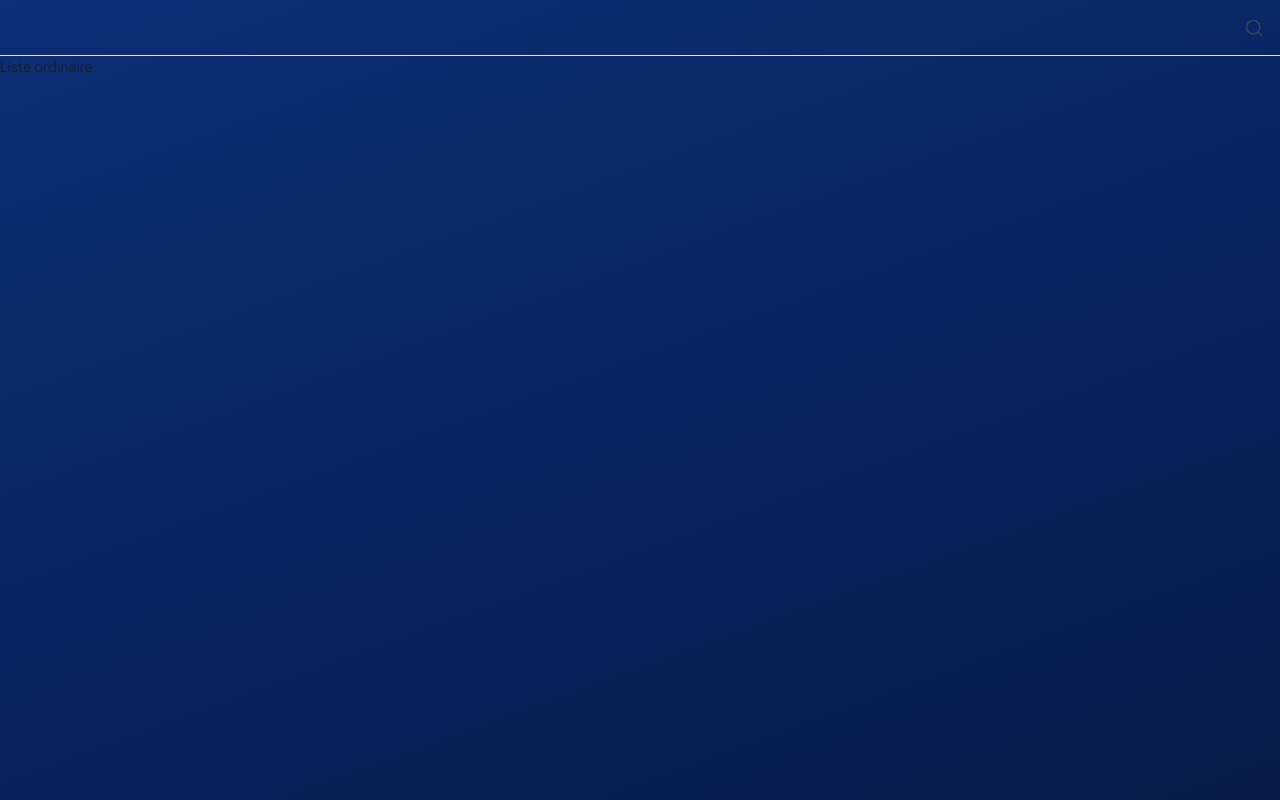
Test: recherche des salons et messages › sur téléphone, la loupe déploie le champ avec le focus, et Fermer le replie
The image size is (1280, 800).
Later steps or results of the test are not shown.
Click the button named "Rechercher": (1254, 28) [1236,10,1272,46]
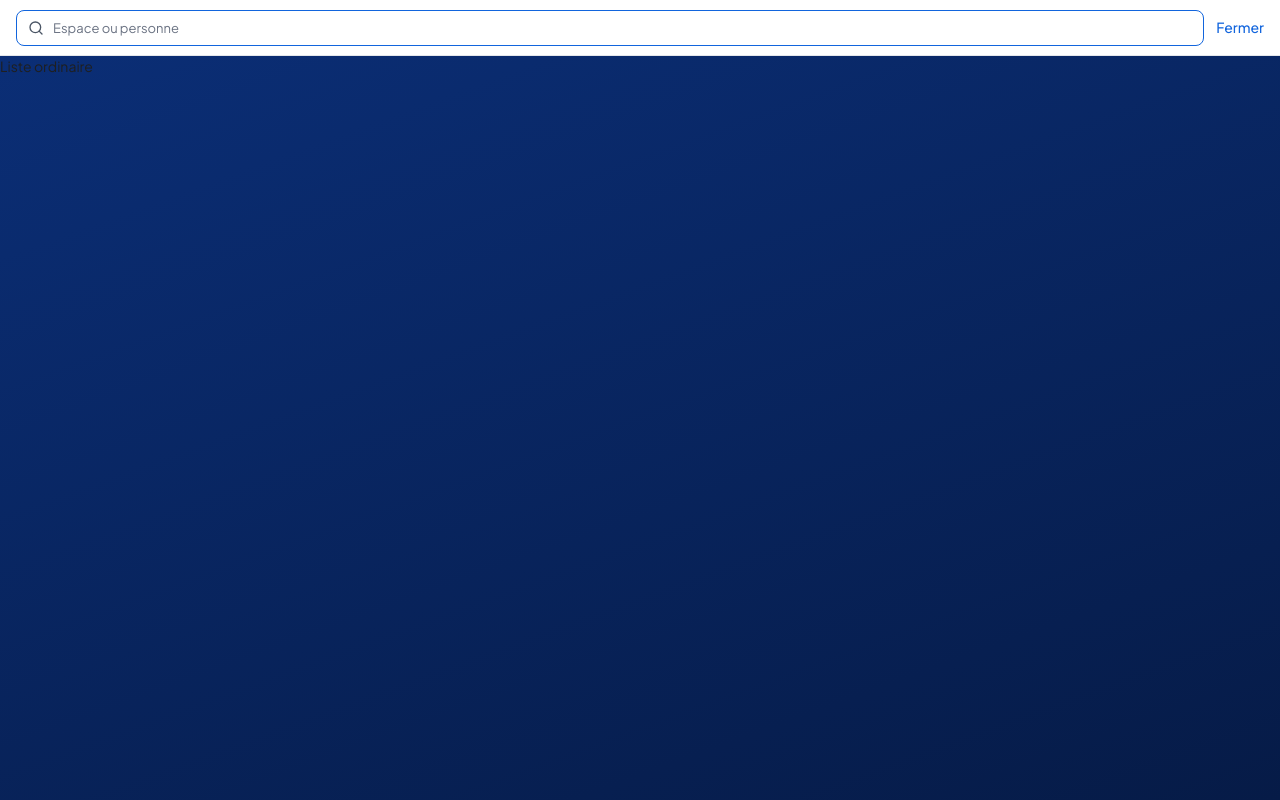
Check: the button named "Rechercher" is expanded, box [1236,10,1272,46]
